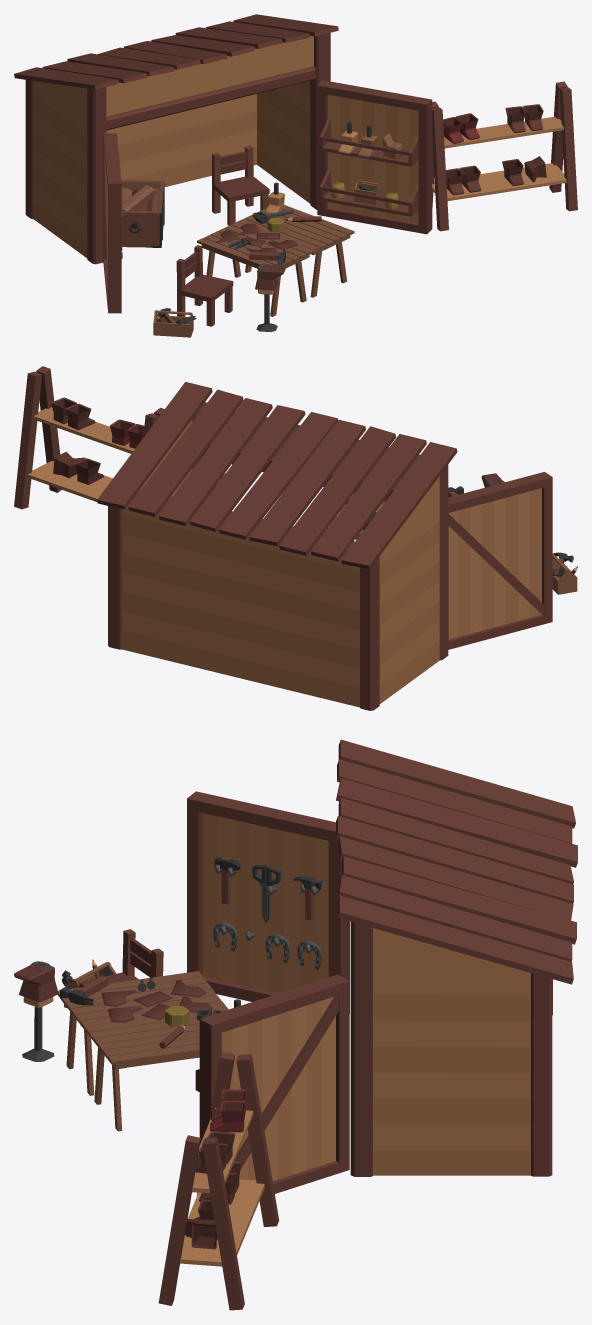
The model's file is shoemaker_3.fbx.
3 renders of one model, top to bottom at view 1: azimuth 30°, elevation 25°; view 2: azimuth 150°, elevation 25°; view 3: azimuth 270°, elevation 25°, orthographic. The views are drawn at different scales.
Visible parts, largest first — view 1: barn, goal_right, shelving.001, goal_left, table, table.001, chair.002, chest_big.001, chair.001, vax, tool_box_full.003, shoe_on_woodenfoot (+1 smaller); view 2: barn, goal_left, shelving.001, tool_box_full.003; view 3: barn, goal_left, goal_right, shelving.001, table, table.001, vax, shoe_on_woodenfoot, chair.001, hummer_naildrawer.004.
Boxes of the visible parts, x1,y1,x2,y2 form: barn: (14, 14, 338, 264); goal_right: (317, 80, 432, 234); shelving.001: (432, 81, 577, 231); goal_left: (103, 133, 122, 313); table: (237, 205, 354, 297); table.001: (197, 221, 313, 316); chair.002: (212, 145, 269, 225); chest_big.001: (121, 180, 164, 247); chair.001: (176, 245, 233, 326); vax: (216, 182, 321, 253); tool_box_full.003: (153, 308, 196, 337); shoe_on_woodenfoot: (255, 263, 286, 331); barn: (97, 382, 457, 710); goal_left: (448, 472, 552, 649); shelving.001: (14, 366, 164, 509); tool_box_full.003: (552, 552, 577, 594); barn: (336, 739, 577, 1176); goal_left: (187, 791, 349, 1013); goal_right: (195, 974, 349, 1193); shelving.001: (158, 1052, 279, 1310); table: (84, 1006, 228, 1131); table.001: (56, 971, 225, 1095); vax: (101, 977, 240, 1048); shoe_on_woodenfoot: (14, 961, 57, 1061); chair.001: (79, 929, 163, 1026); hummer_naildrawer.004: (60, 976, 108, 1005).
Size of the model in its own units: 396 by 149 by 285.
